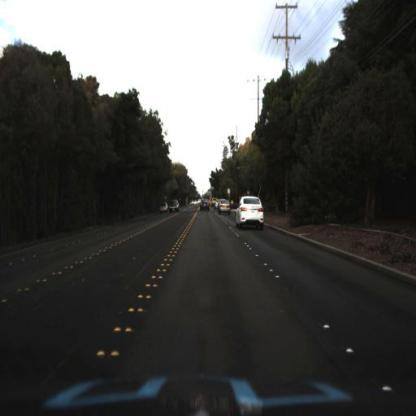car: (236, 194, 272, 233), (218, 196, 231, 217), (168, 197, 182, 216), (156, 200, 170, 216), (201, 198, 213, 213), (171, 200, 181, 216), (161, 199, 170, 213)
